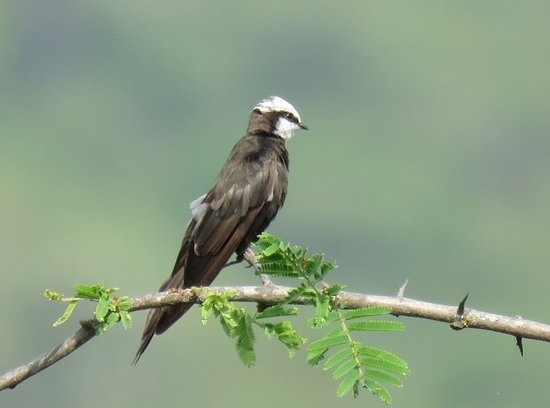bird: (129, 92, 310, 368)
